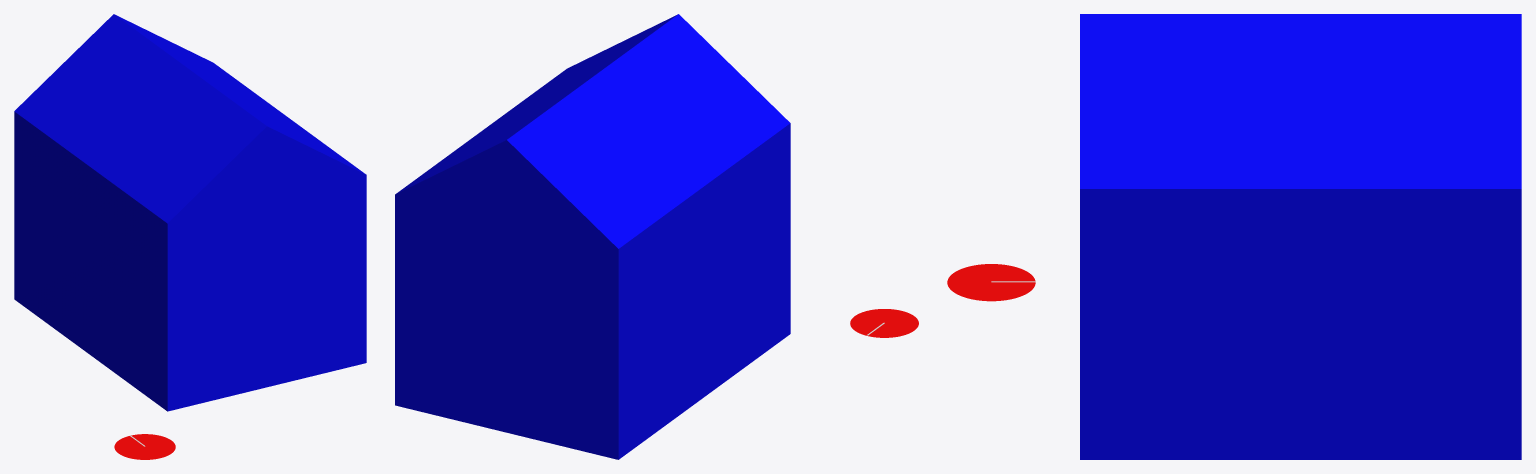
Rendered from result.glb.
The picture shows the model from 3 angles, left to right: view 1: azimuth 30°, elevation 25°; view 2: azimuth 150°, elevation 25°; view 3: azimuth 270°, elevation 25°; orthographic projection. The views are drawn at different scales.
Visible parts, largest first — view 1: c1c727e7-c023-4934-80a0-f96757e54b7f__undefined, 896dab92-0eb2-4f23-9bf1-b20f8b5d337b__Circle; view 2: c1c727e7-c023-4934-80a0-f96757e54b7f__undefined, 896dab92-0eb2-4f23-9bf1-b20f8b5d337b__Circle; view 3: c1c727e7-c023-4934-80a0-f96757e54b7f__undefined, 896dab92-0eb2-4f23-9bf1-b20f8b5d337b__Circle.
Part boxes in pixels (left/top/right/bottom): c1c727e7-c023-4934-80a0-f96757e54b7f__undefined: left=14, top=14, right=366, bottom=411; 896dab92-0eb2-4f23-9bf1-b20f8b5d337b__Circle: left=114, top=434, right=175, bottom=459; c1c727e7-c023-4934-80a0-f96757e54b7f__undefined: left=395, top=14, right=790, bottom=459; 896dab92-0eb2-4f23-9bf1-b20f8b5d337b__Circle: left=850, top=309, right=918, bottom=337; c1c727e7-c023-4934-80a0-f96757e54b7f__undefined: left=1080, top=14, right=1521, bottom=459; 896dab92-0eb2-4f23-9bf1-b20f8b5d337b__Circle: left=947, top=264, right=1035, bottom=301.
Bounding box in the file's own units: 525 × 469 × 650.
